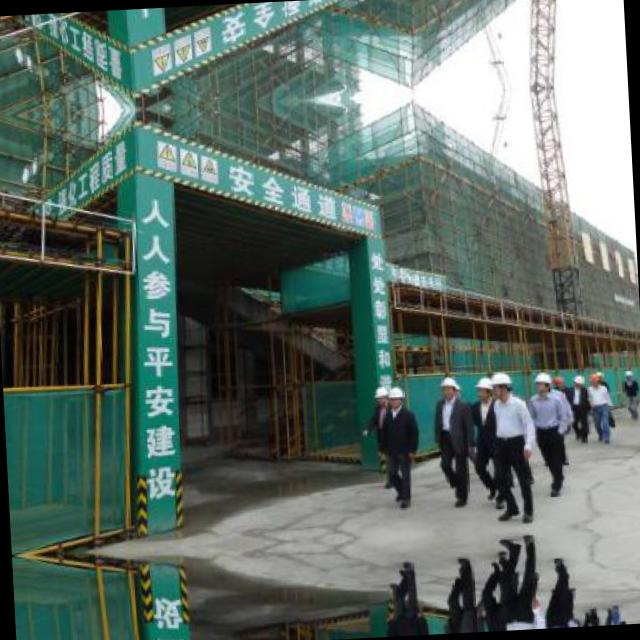helmet: (485, 367, 513, 399), (529, 366, 552, 396), (385, 382, 405, 410), (472, 374, 490, 403), (436, 375, 456, 400), (372, 382, 387, 406), (570, 372, 585, 389), (551, 372, 564, 388), (586, 371, 598, 386)
